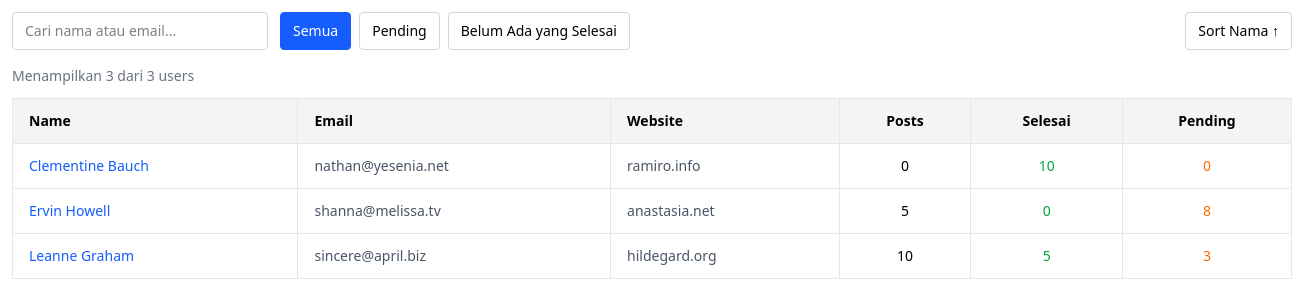
Test case: UsersTable › memfilter users berdasarkan email
Type "shanna@melissa" into the search field with placeholder "Cari nama atau email...".
click(140, 31); type("shanna@melissa")  # box [12, 12, 268, 50]
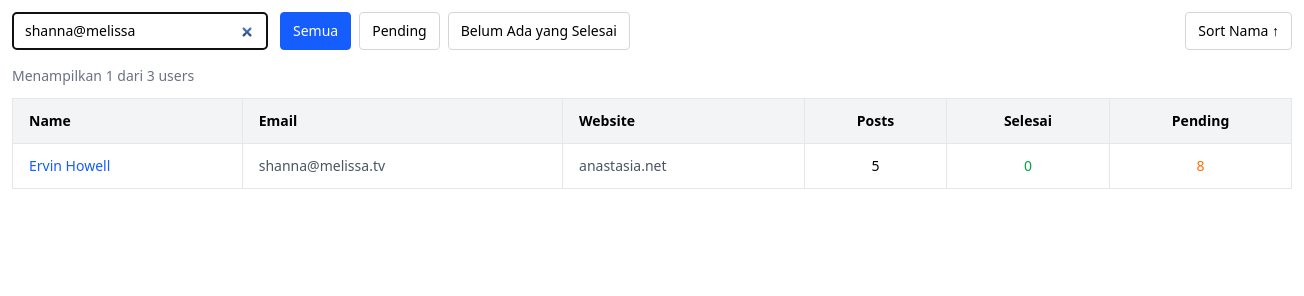
Check: the link "Ervin Howell" is shown, box [29, 156, 110, 175]
Check: no links "Leanne Graham" are shown
